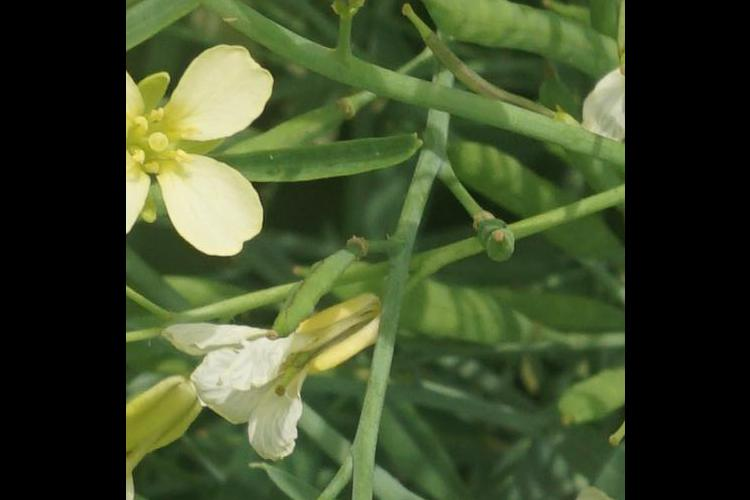pod: (385, 6, 570, 134), (260, 244, 360, 350), (404, 1, 533, 55)
white: (131, 1, 307, 248), (167, 283, 374, 471)
